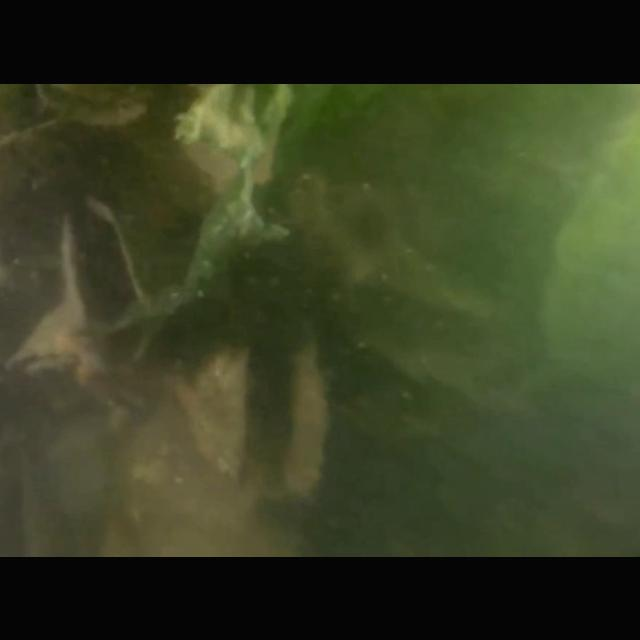Oyster-Open: (178, 306, 330, 492), (59, 195, 147, 332), (5, 297, 84, 375), (32, 83, 154, 129)
